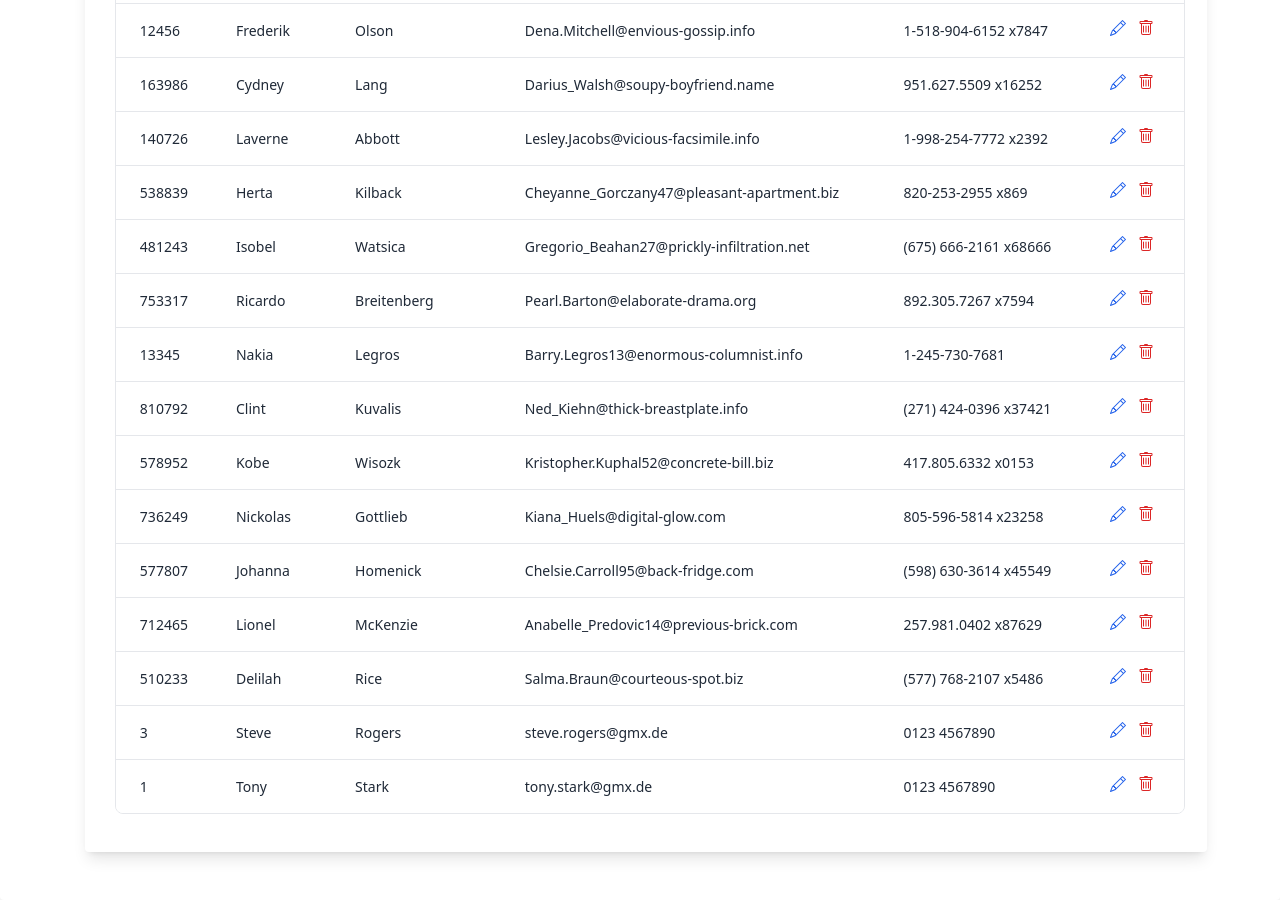
Test: Customer Management App Tests › should delete appropriate record when delete is used in a customer row
(page scrolled)
Step 1. Click the button with test id "delete-3" → coordinates (1146, 730), box [1138,722,1154,738]
(page scrolled)
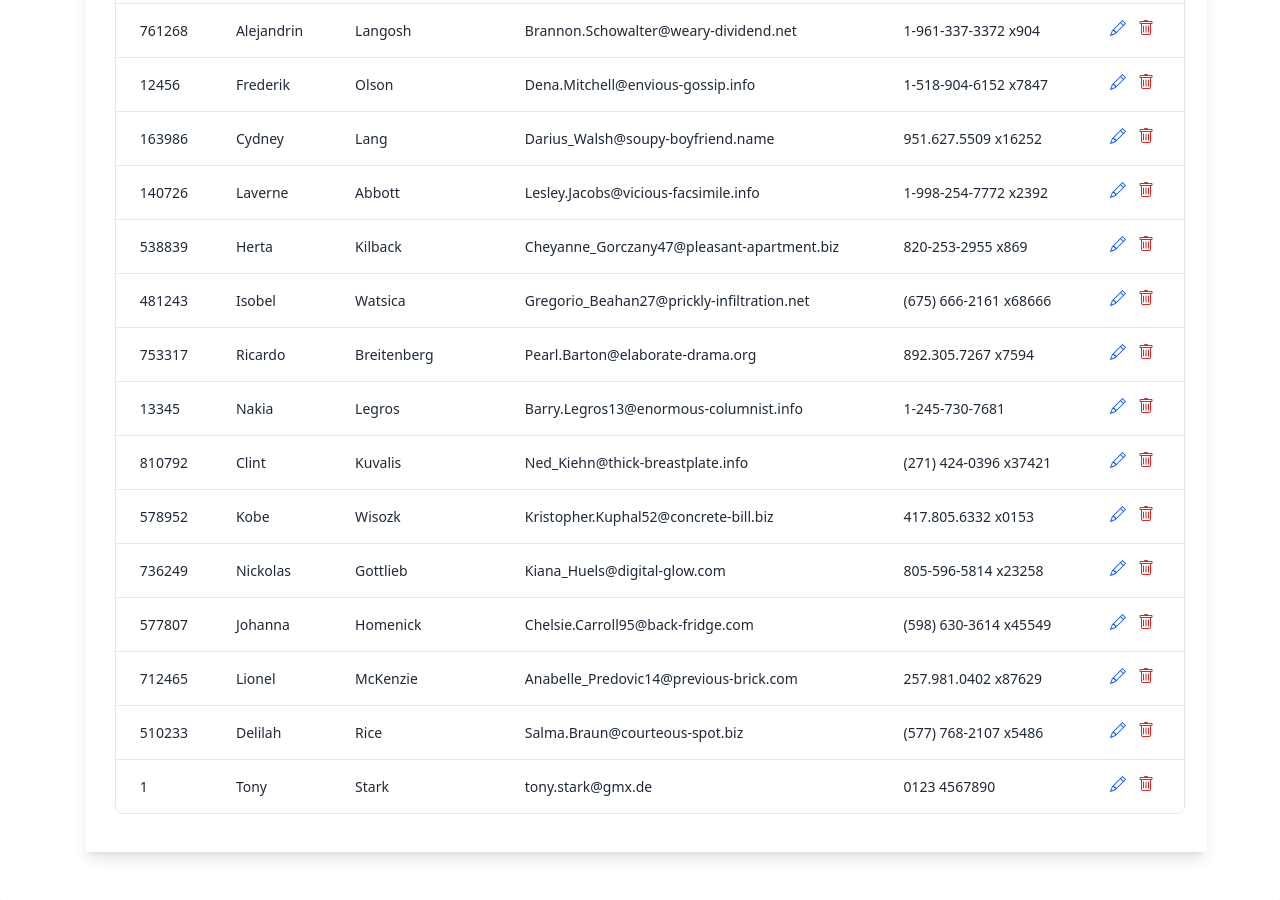
Now the text "steve.rogers@gmx.de" is not shown
